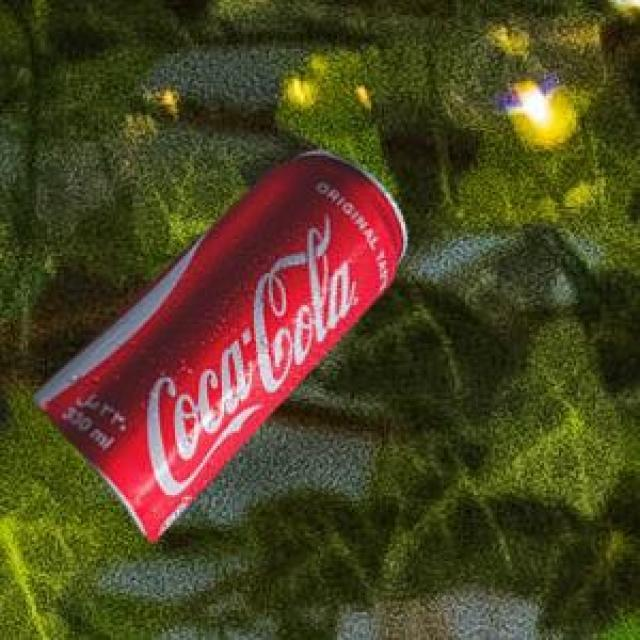Can: (29, 148, 404, 539)
